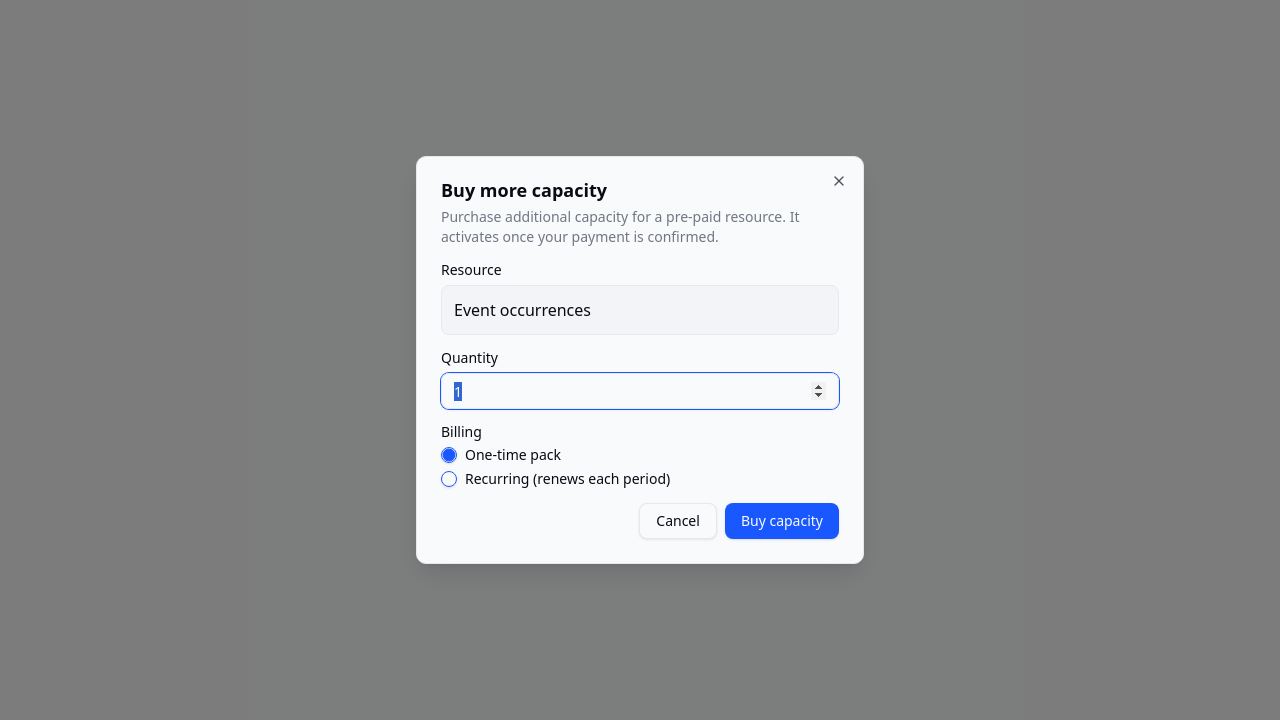
Test: PurchaseAddOnDialog › renders the provider-unavailable message on a 409
Click the button with test id "purchase-add-on-submit" at (782, 521), box [725,503,839,539]
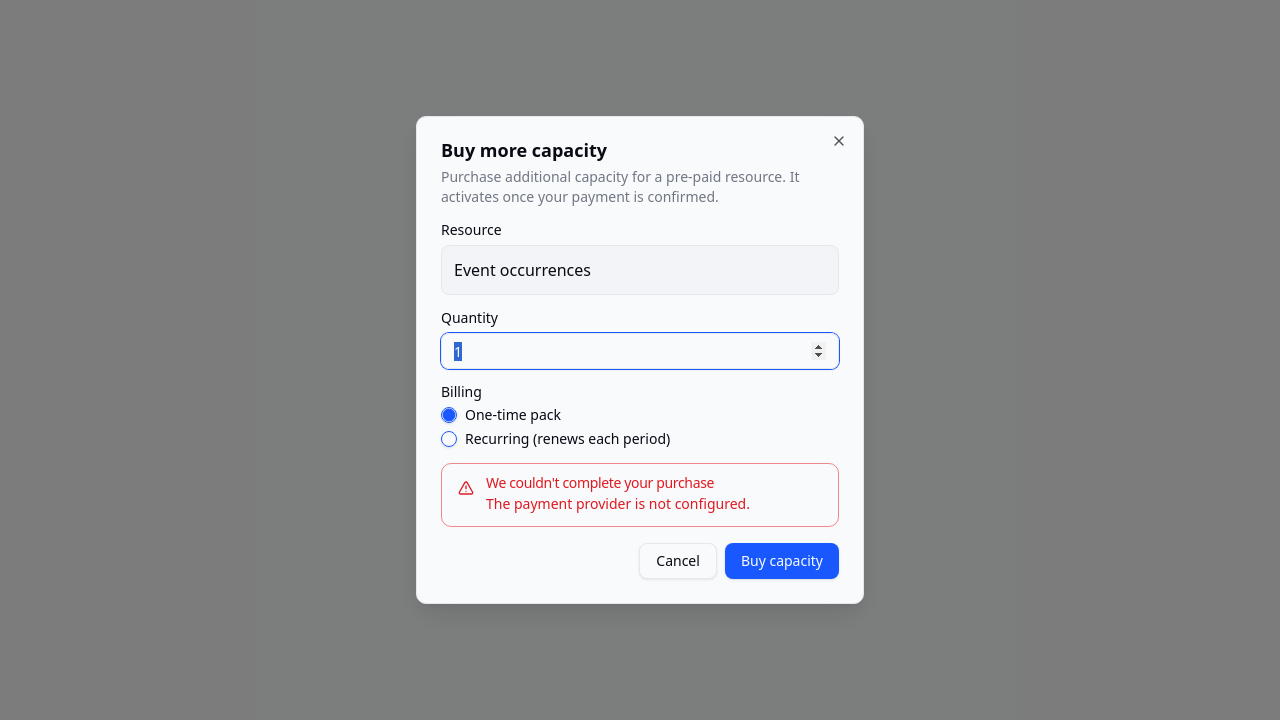
expect the message with test id "purchase-add-on-error" shows "provider is not configured": met, box [486,494,750,513]
